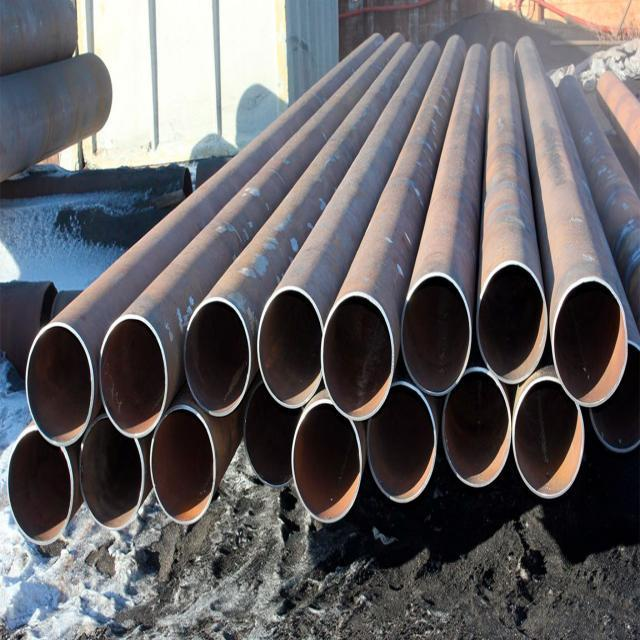pipe: (551, 278, 627, 408), (321, 290, 394, 422), (474, 259, 550, 382), (366, 379, 439, 507), (513, 374, 586, 501), (398, 271, 472, 396), (291, 400, 364, 526), (181, 298, 254, 421), (26, 320, 96, 447), (96, 313, 167, 437), (442, 368, 513, 491), (149, 403, 219, 527), (7, 425, 77, 548), (256, 283, 324, 407), (78, 416, 147, 532), (590, 342, 639, 455), (244, 382, 293, 489)
